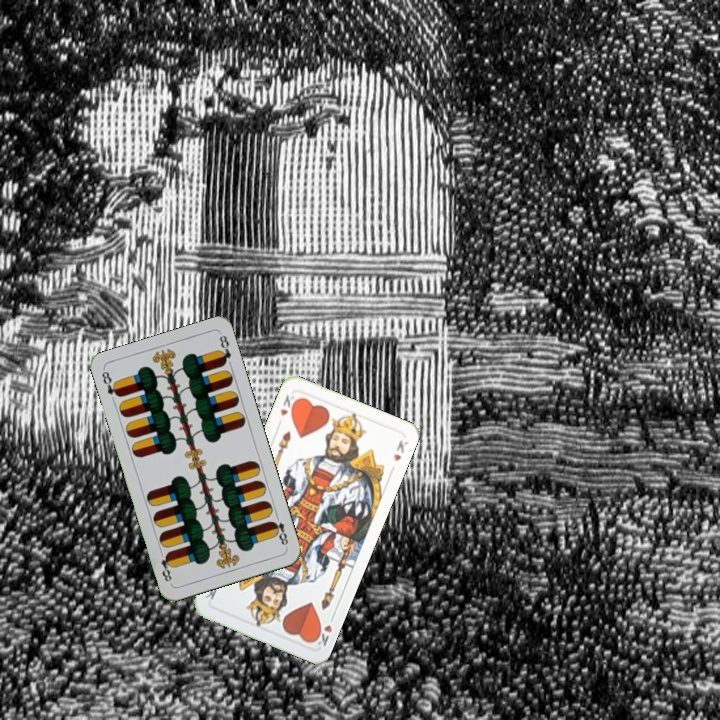E8: (267, 510, 291, 550), (98, 367, 123, 400)
HK: (309, 610, 337, 649), (276, 390, 300, 418)
